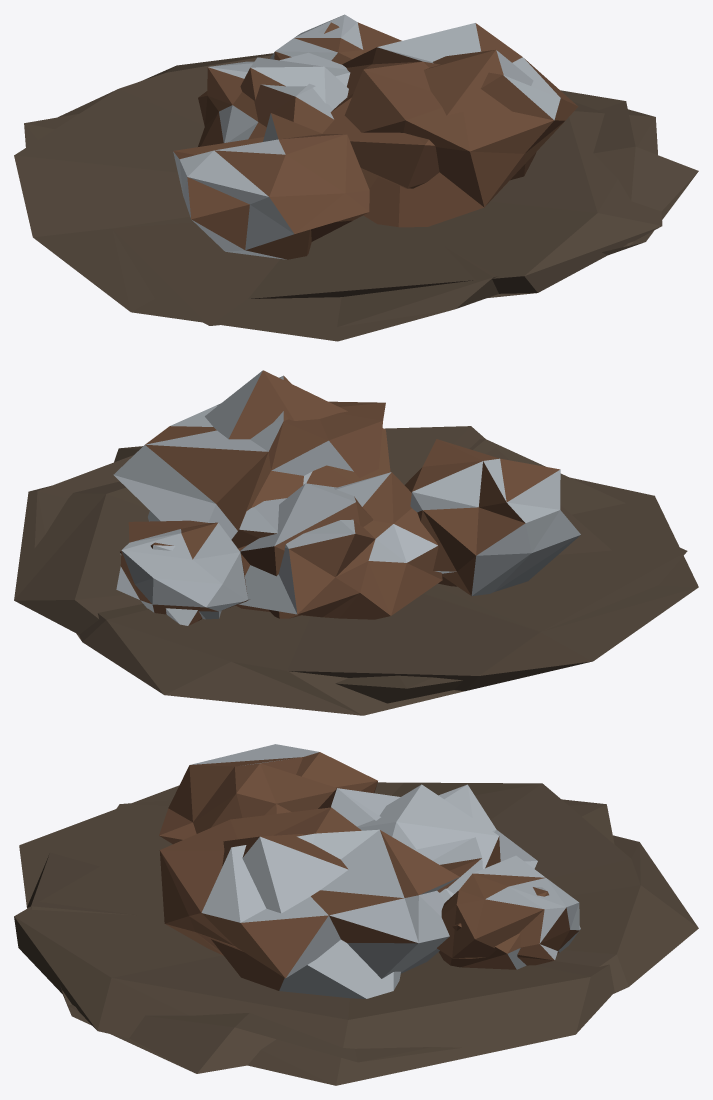
The model's file is neutral_ore_field_stage_01.glb.
3 renders of one model, top to bottom at view 1: azimuth 30°, elevation 25°; view 2: azimuth 150°, elevation 25°; view 3: azimuth 270°, elevation 25°, orthographic. The views are drawn at different scales.
Visible parts, largest first — view 1: soil (×2), ore (×2); view 2: soil (×2), ore (×2); view 3: soil (×2), ore (×2).
Boxes of the visible parts, <box> form: soil (×2): <box>14,53,698,341</box>; ore (×2): <box>173,14,578,259</box>; soil (×2): <box>14,426,698,715</box>; ore (×2): <box>113,370,580,625</box>; soil (×2): <box>14,782,698,1085</box>; ore (×2): <box>159,744,580,998</box>.
Bounding box in the file's own units: 2.51 × 0.6408 × 2.39.
